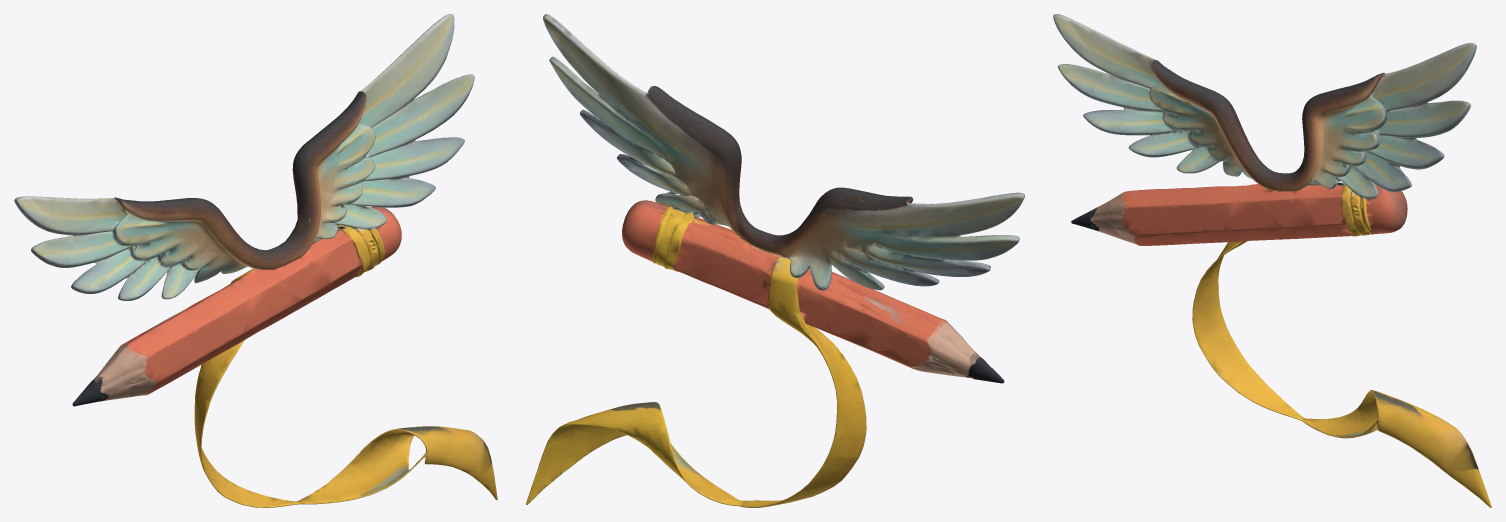
3 views of the same model, side by side, from view 1: azimuth 30°, elevation 25°; view 2: azimuth 150°, elevation 25°; view 3: azimuth 330°, elevation 25° (orthographic). The views are drawn at different scales.
Bounding box in the file's own units: 1.9 × 1.84 × 0.2951.
1 material, 1 textured.
